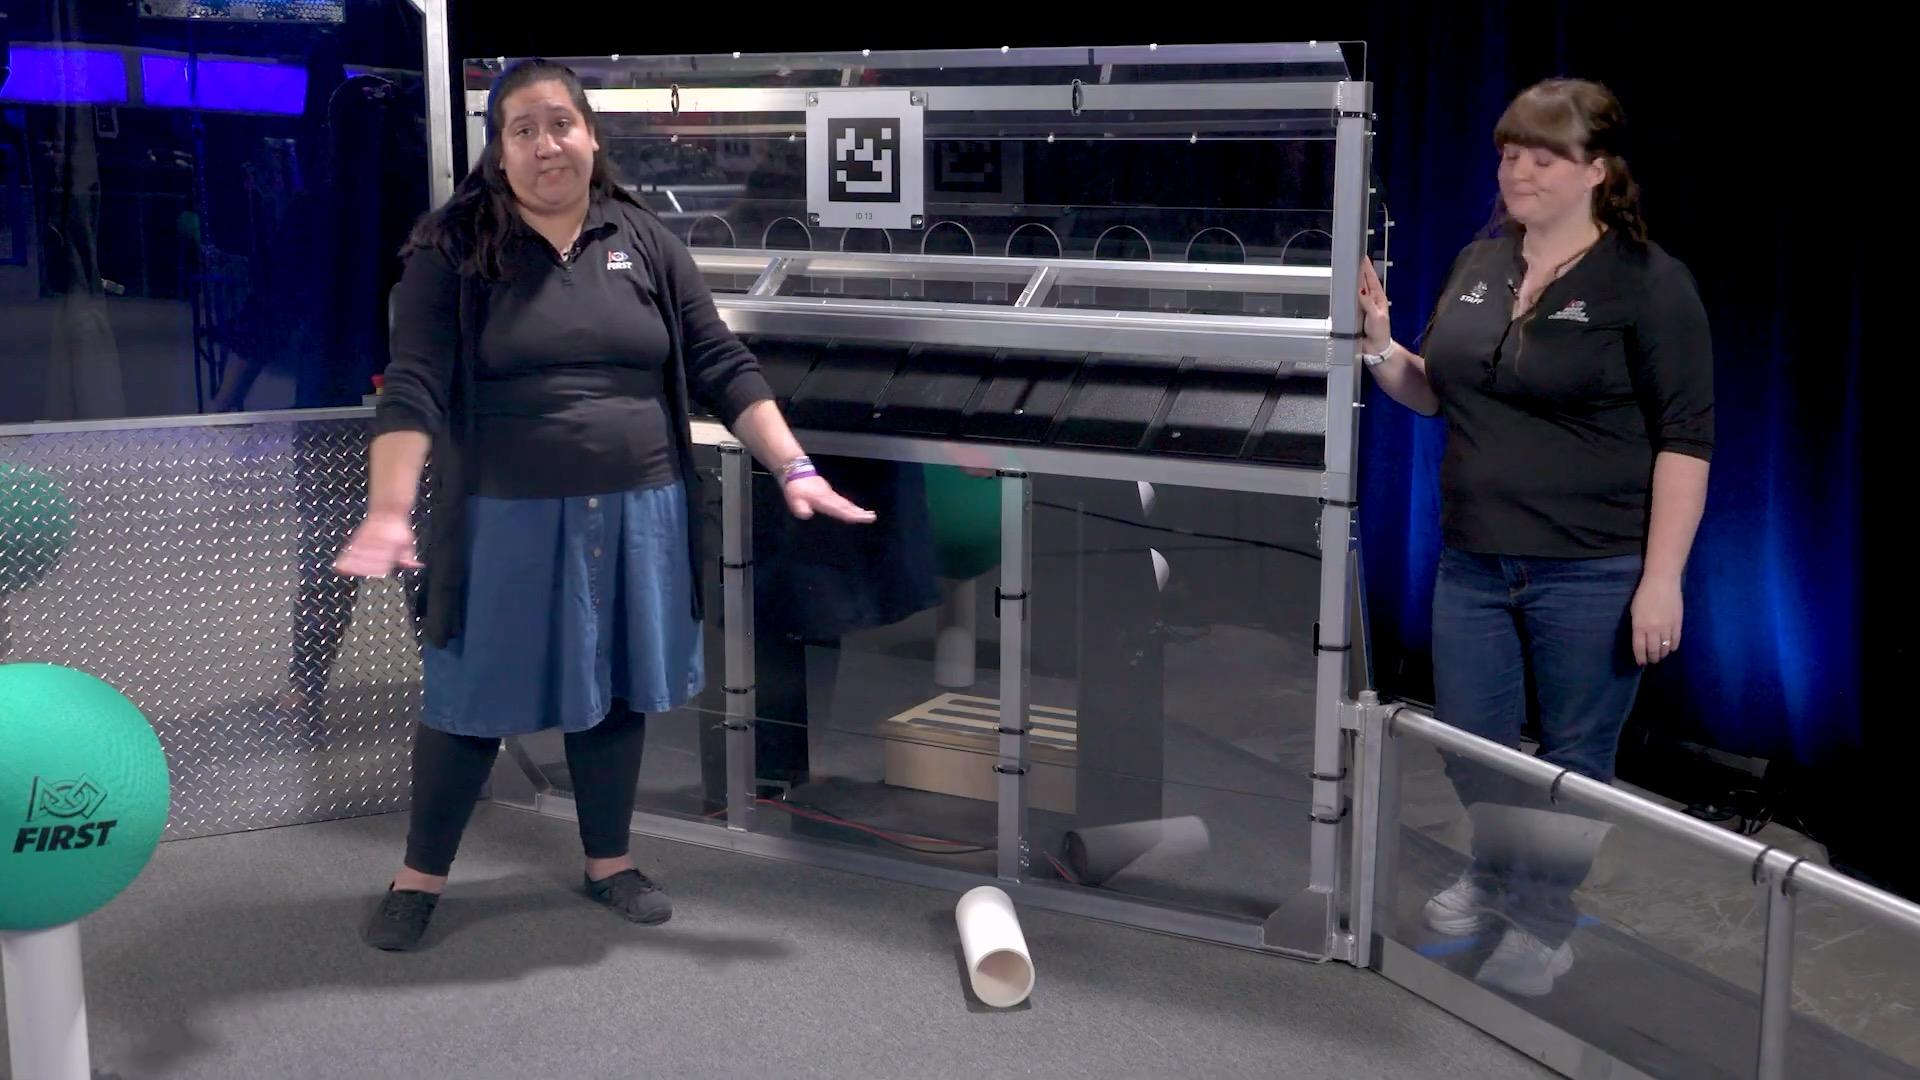ALGAE: (0, 663, 171, 932)
CORAL: (0, 923, 94, 1080), (953, 886, 1036, 1010)
